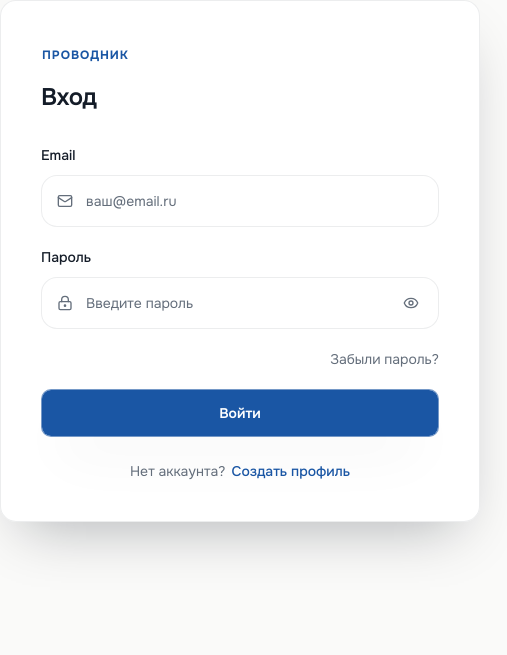
Test: AuthEntryScreen traveler sign-in › shows an error instead of silently signing out when the role cannot be resolved
Type "broken@example.test" into the field labelled "Email" at (240, 201), box [41, 175, 439, 227]
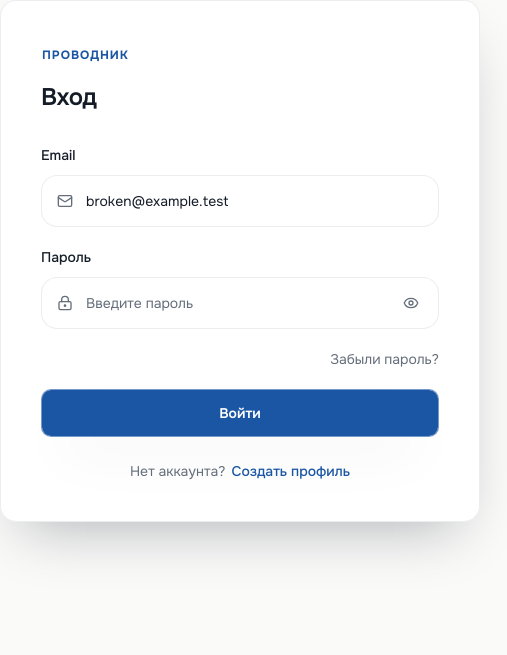
Type "Broken1234!" into the password field labelled "Пароль" at (240, 303), box [41, 277, 439, 329]
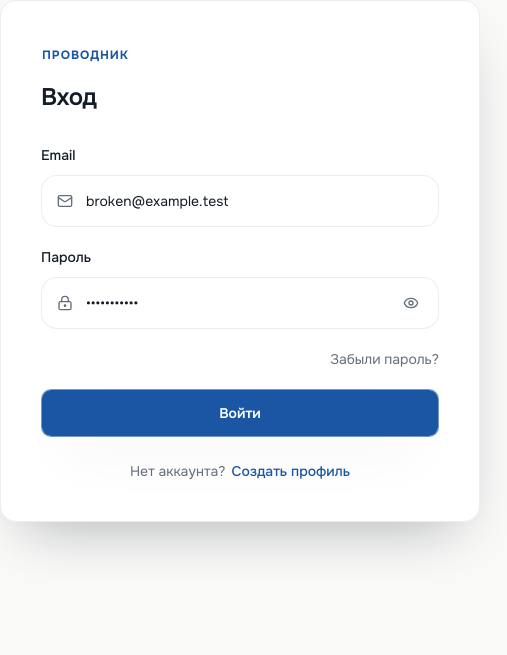
Click the button "Войти" at (240, 413), box [41, 389, 439, 437]
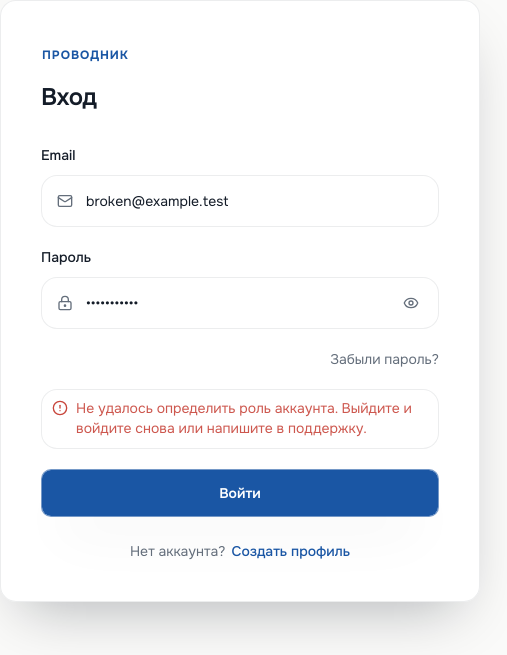
expect the text "Не удалось определить роль аккаунта" is shown: met, box [76, 399, 412, 437]
